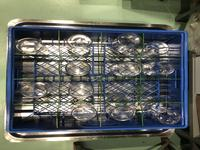Glass: (147, 106, 181, 125), (67, 34, 95, 54), (105, 103, 136, 121), (113, 32, 142, 51), (21, 82, 52, 99), (15, 37, 46, 53), (70, 103, 96, 121), (111, 62, 142, 77), (143, 61, 175, 75), (68, 84, 94, 99), (144, 41, 170, 56), (66, 62, 91, 77)
